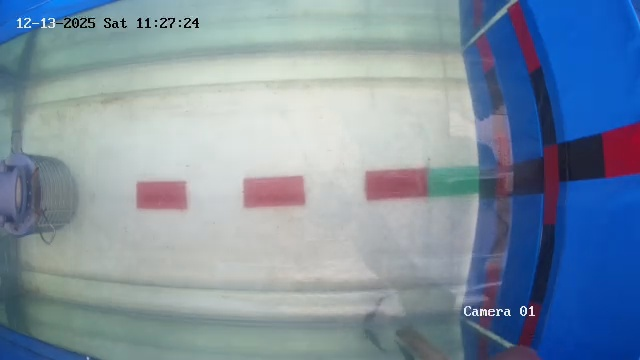fish: (279, 315, 322, 331)
